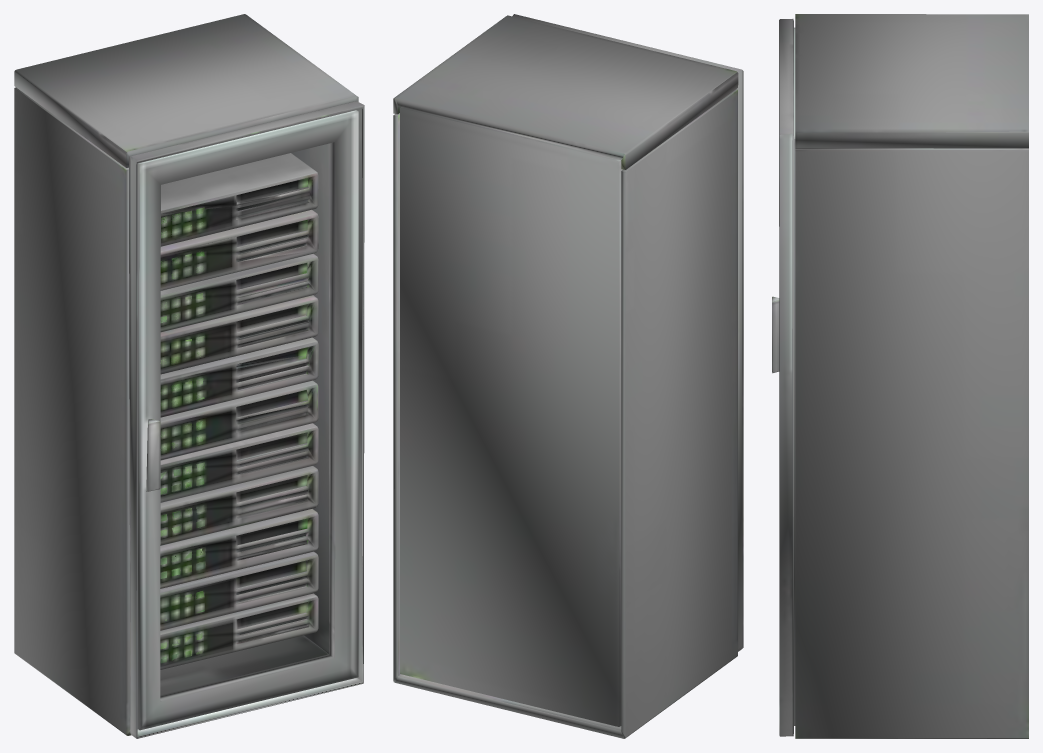
File: server-cabinet.glb
3 renders of one model, left to right at view 1: azimuth 30°, elevation 25°; view 2: azimuth 150°, elevation 25°; view 3: azimuth 270°, elevation 25°, orthographic. The views are drawn at different scales.
Size of the model in its own units: 0.3955 by 0.9507 by 0.3633.
1 material, 1 textured.
